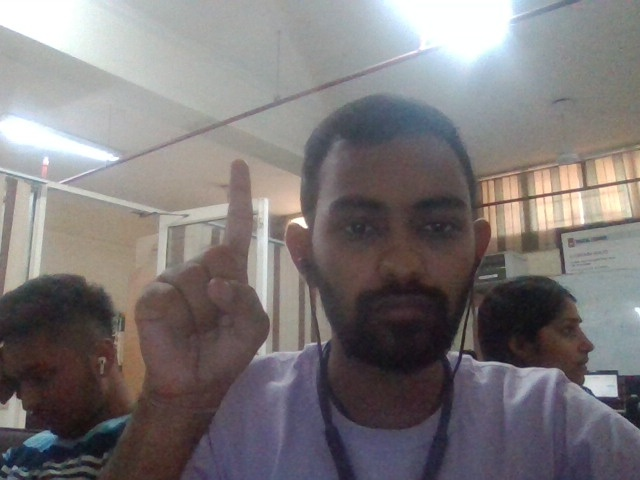Present: (133, 158, 270, 419)
